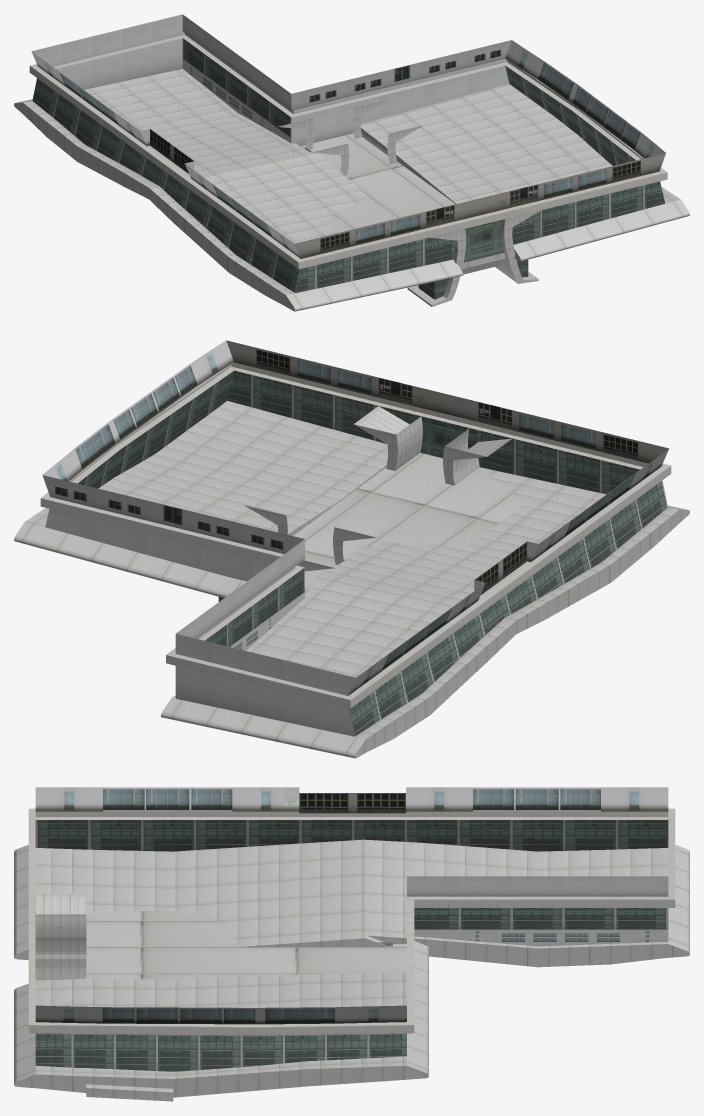
The model's file is side building23.FBX.
The picture shows the model from 3 angles, top to bottom: view 1: azimuth 30°, elevation 25°; view 2: azimuth 150°, elevation 25°; view 3: azimuth 270°, elevation 25°; orthographic projection. The views are drawn at different scales.
Visible parts, largest first — view 1: 陕西网球中心; view 2: 陕西网球中心; view 3: 陕西网球中心.
Part boxes in pixels (<box>): 陕西网球中心: <box>14,14,689,311</box>; 陕西网球中心: <box>14,340,689,758</box>; 陕西网球中心: <box>14,787,689,1101</box>.
Size of the model in its own units: 92.27 by 112 by 20.63.
